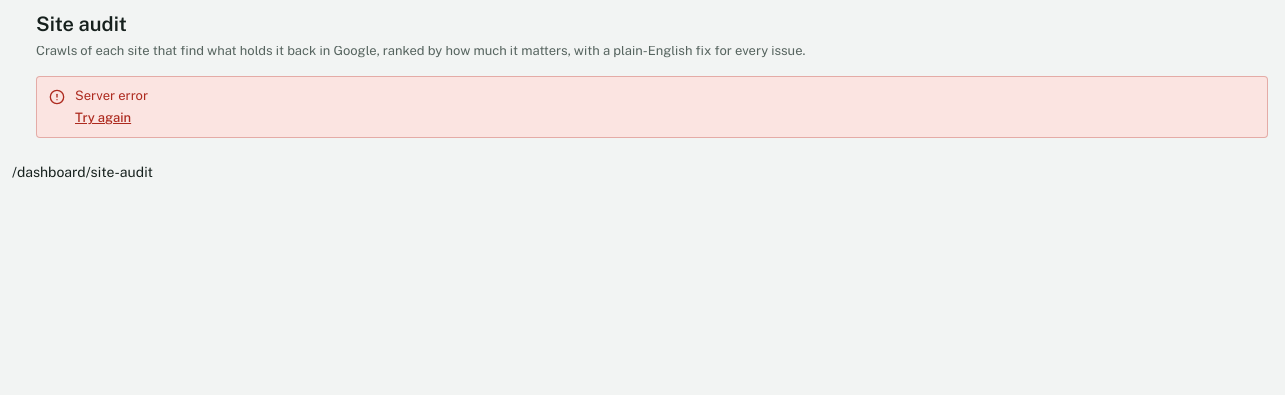
Test: SiteAuditPage (overview) › offers a retry when the sites fail to load
The width and height of the screenshot is (1285, 395).
Expected: the text "Server error" is shown, [75,88,148,103]
Click the button "Try again" at (103, 118), box [75,109,131,127]
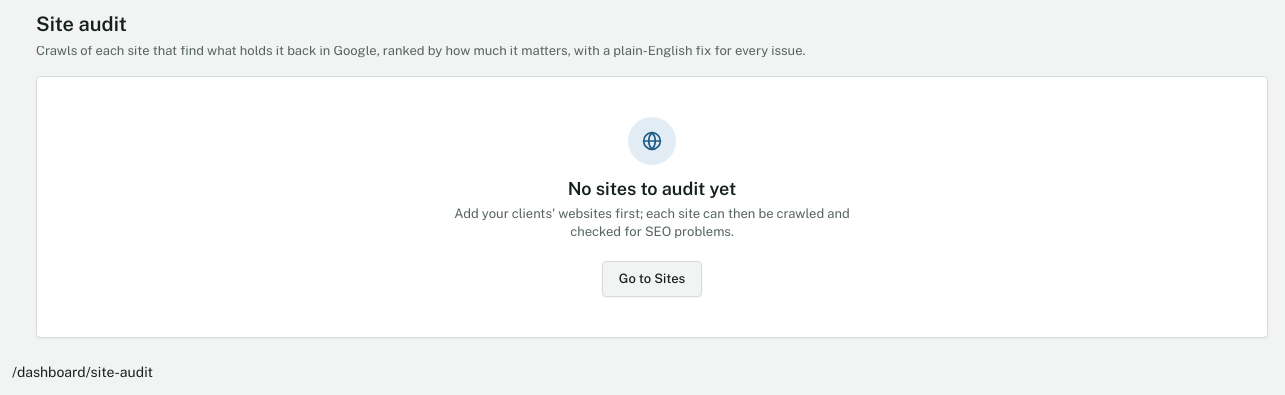
Result: the heading "No sites to audit yet" is shown at [568,177,736,201]
